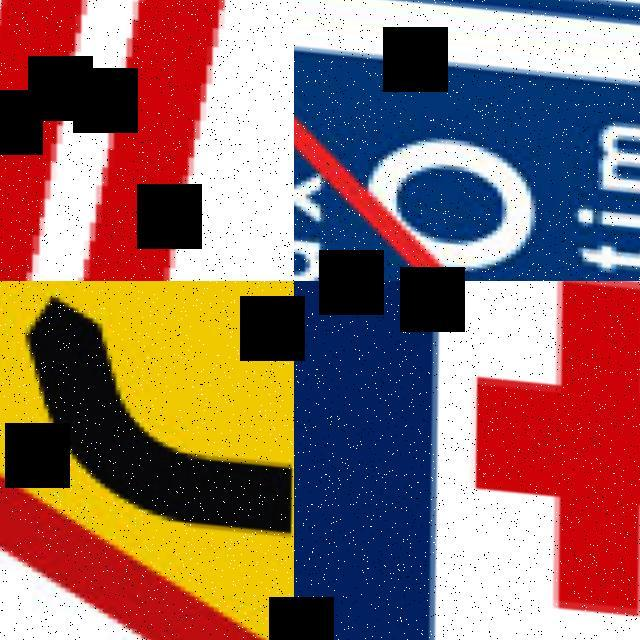103: (294, 0, 640, 281)
137: (0, 281, 294, 640)
First aid post: (294, 281, 640, 640)
Level crossing countdown marker: (0, 0, 294, 281)
